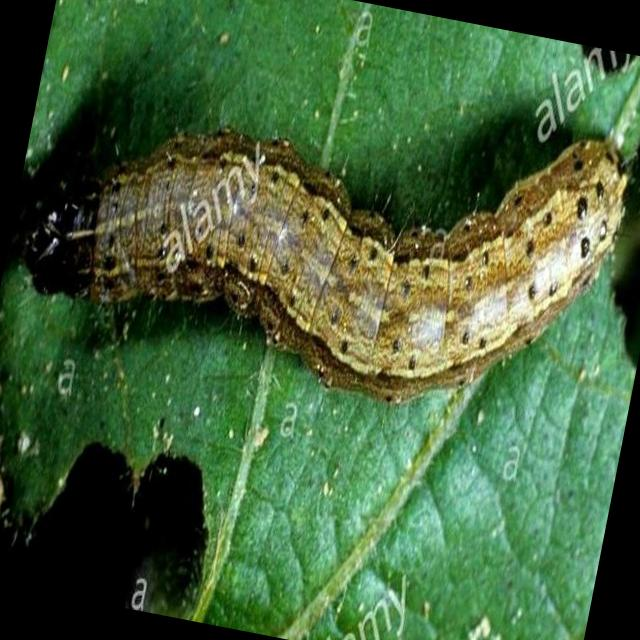worm: (7, 29, 640, 444)
